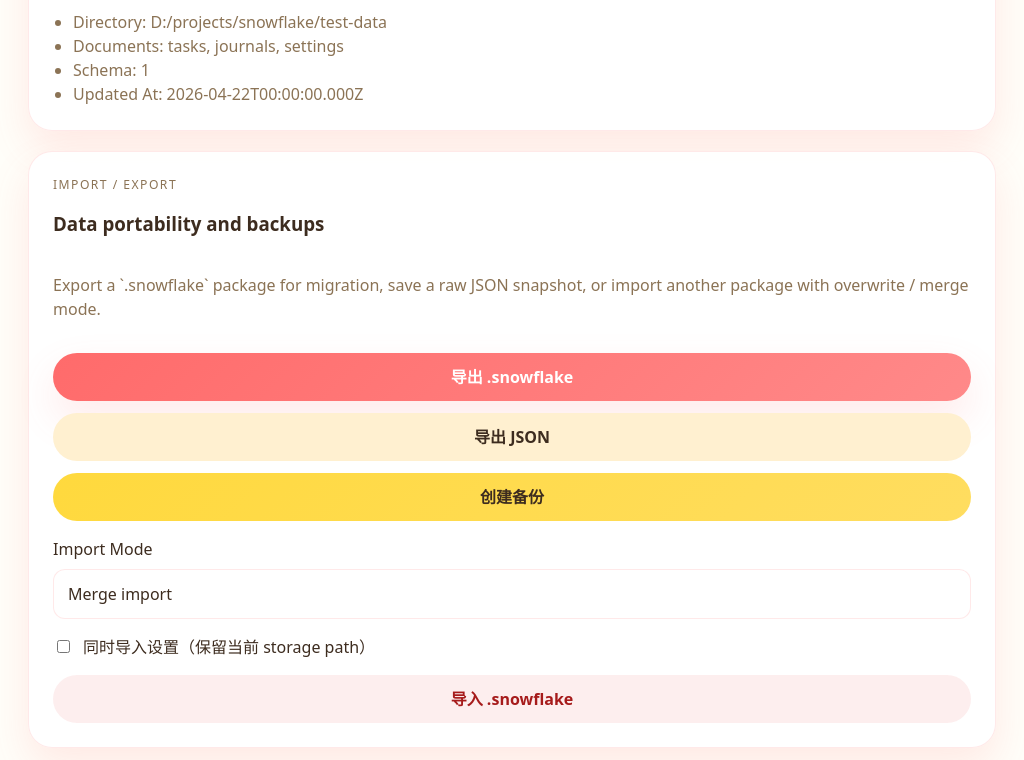
App integration › shows transfer feedback for manual exports
This screenshot has width=1024, height=760.
(page scrolled)
Step 1. Click the button "导出 .snowflake" → (512,376), box [53,352,971,400]
(page scrolled)
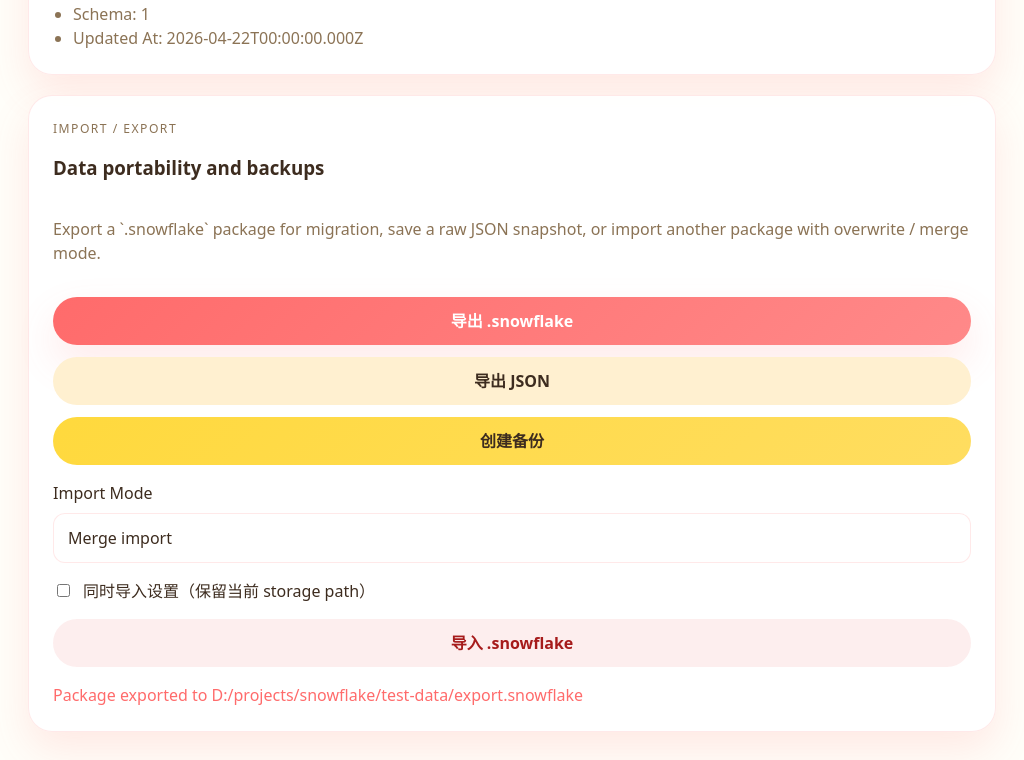
Result: the text "Package exported to D:/projects/snowflake/test-data/export.snowflake" is shown at [53,684,583,706]
